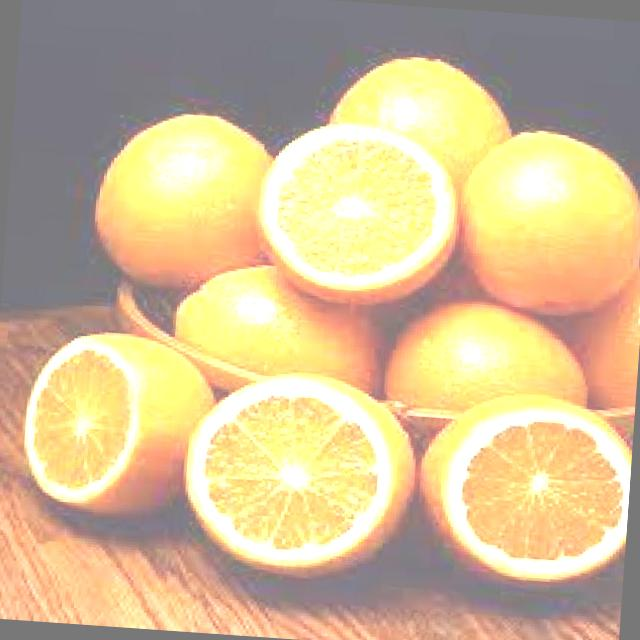Orange: (176, 362, 424, 585), (414, 384, 636, 588), (254, 114, 466, 310), (20, 324, 220, 522), (453, 122, 640, 321), (90, 104, 278, 294), (381, 293, 596, 444), (171, 256, 389, 399), (325, 48, 519, 196), (566, 266, 640, 406)
